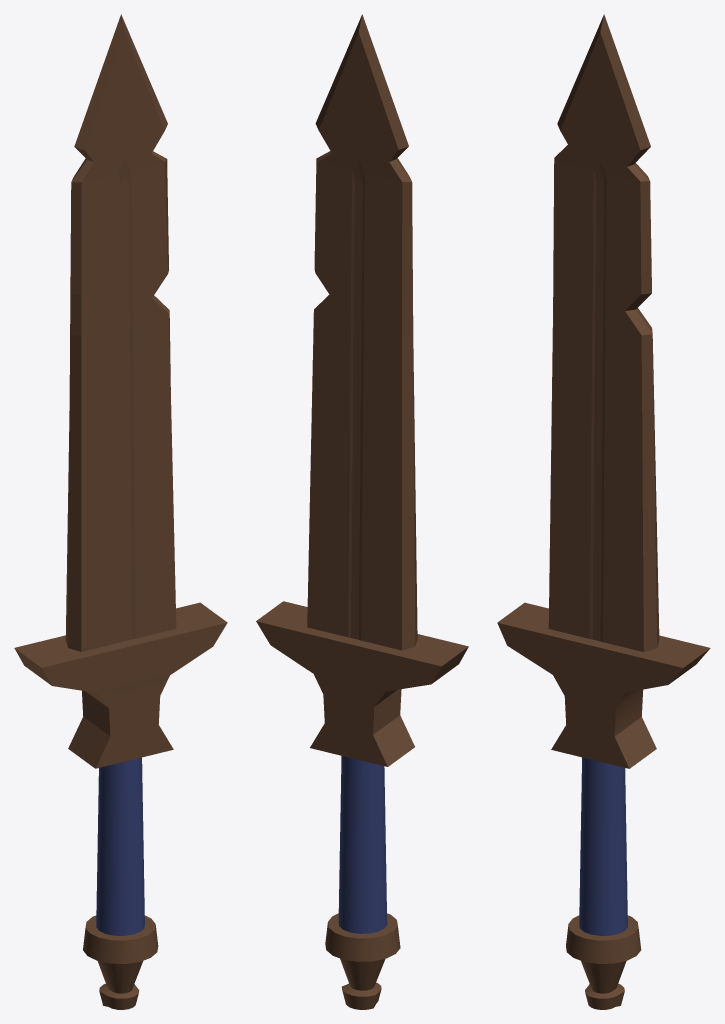
Rendered from item_sword_wood_model.fbx.
3 renders of one model, left to right at view 1: azimuth 30°, elevation 25°; view 2: azimuth 150°, elevation 25°; view 3: azimuth 330°, elevation 25°, orthographic.
Parts seen in each view (by area): view 1: sword_wood_A; view 2: sword_wood_A; view 3: sword_wood_A.
Part boxes in pixels (x1,y1,x2,y2): sword_wood_A: (14,14,227,1009); sword_wood_A: (256,14,468,1009); sword_wood_A: (497,14,710,1009).
Size of the model in its own units: 0.3286 by 1.67 by 0.1164.
